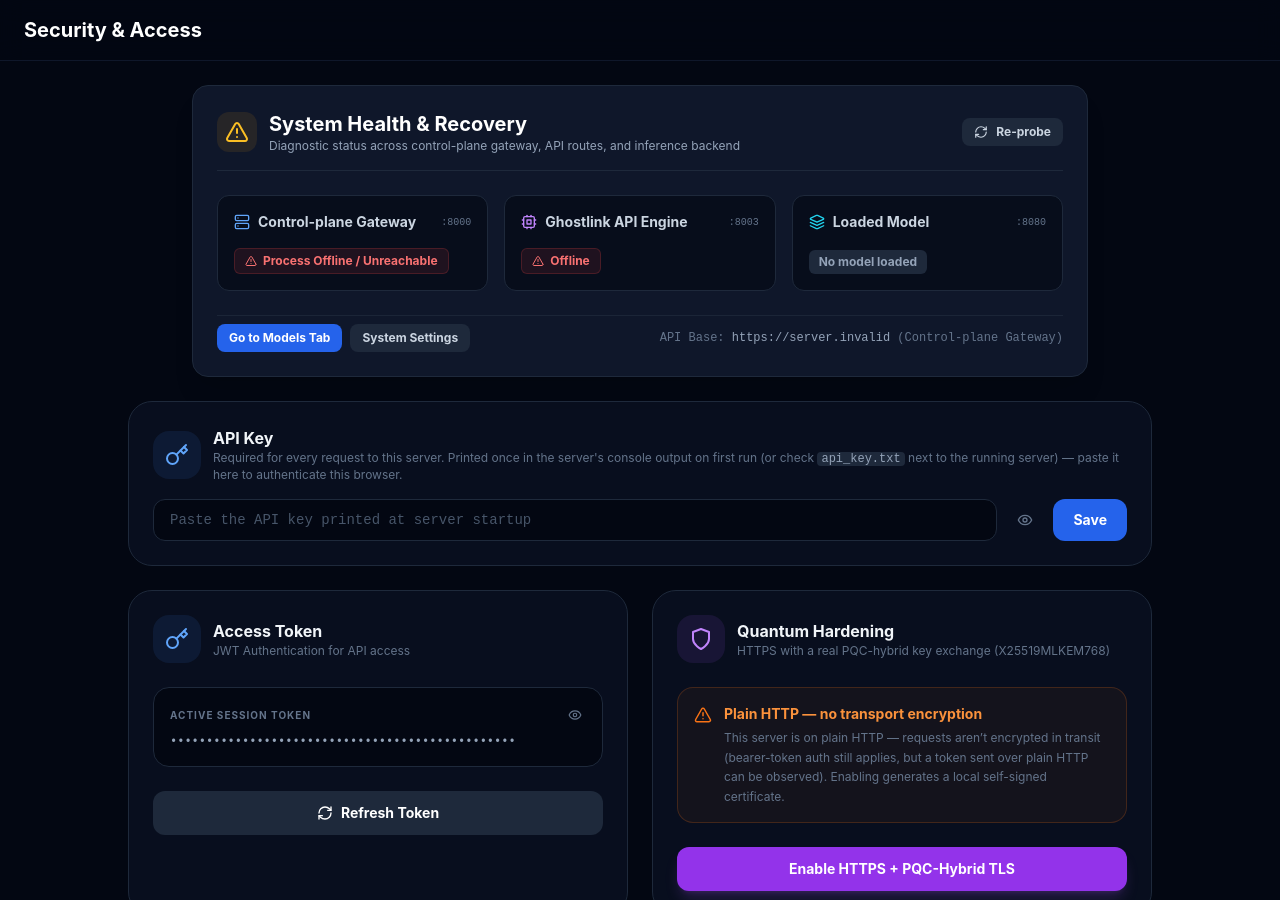
it: SecurityTab › saves the entered API key via api.setApiKey and shows confirmation with ARIA label
The image size is (1280, 900).
Type "new-key-456" into the password field labelled "API key" at (575, 520), box [153,499,998,541]
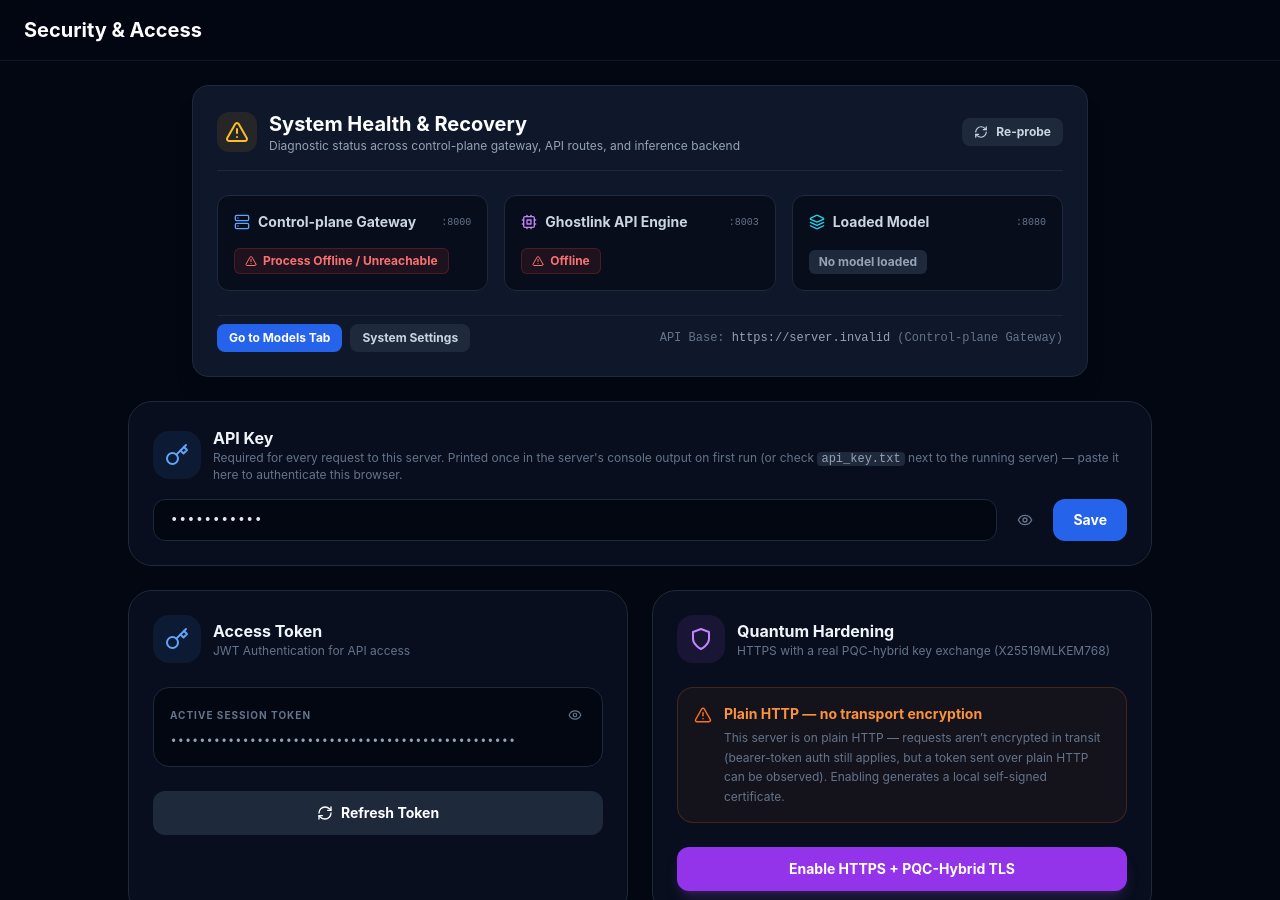
Click the button with aria-label "save api key" at (1090, 520), box [1054,499,1127,541]
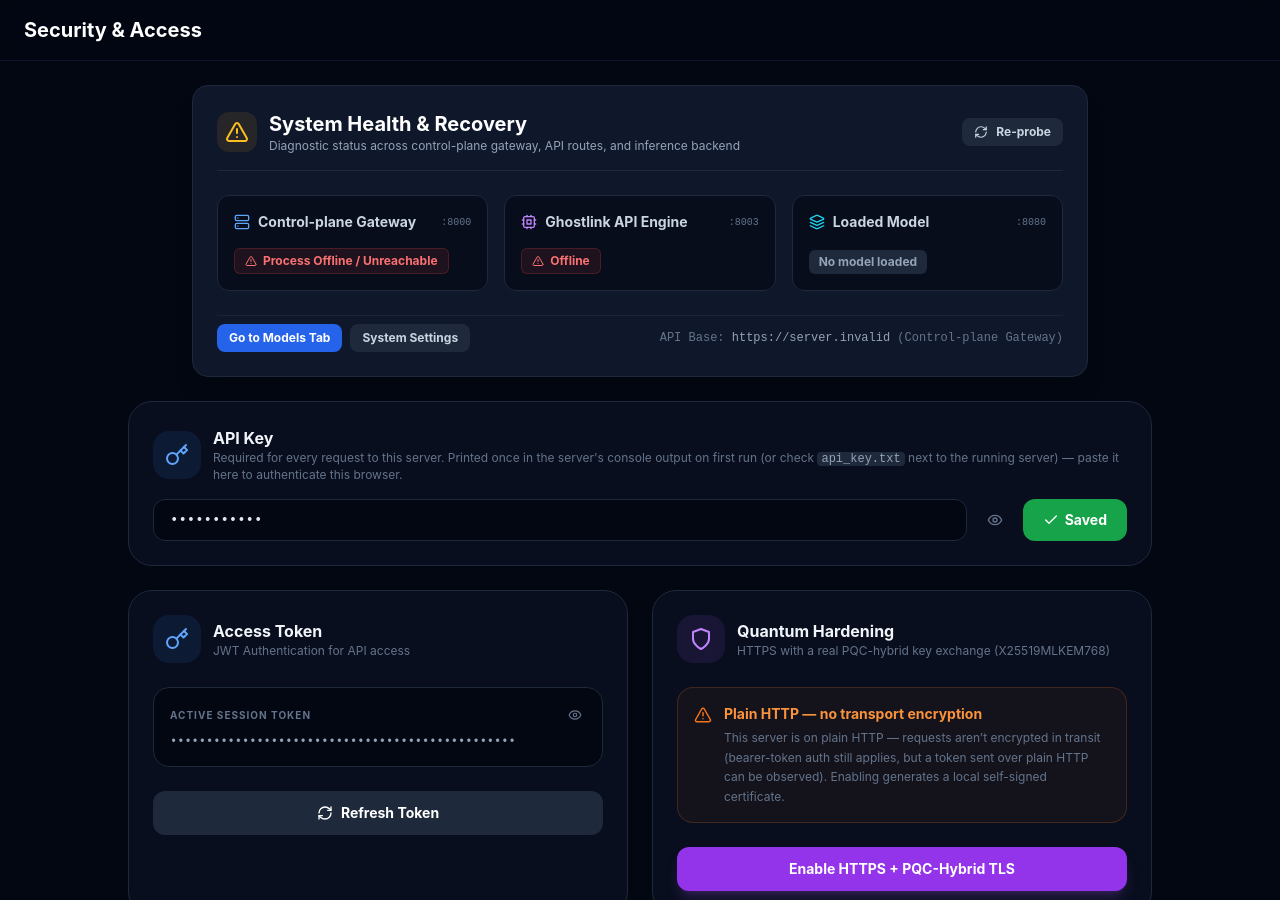
Expected: the button "Saved" is shown, [1023,499,1127,541]
